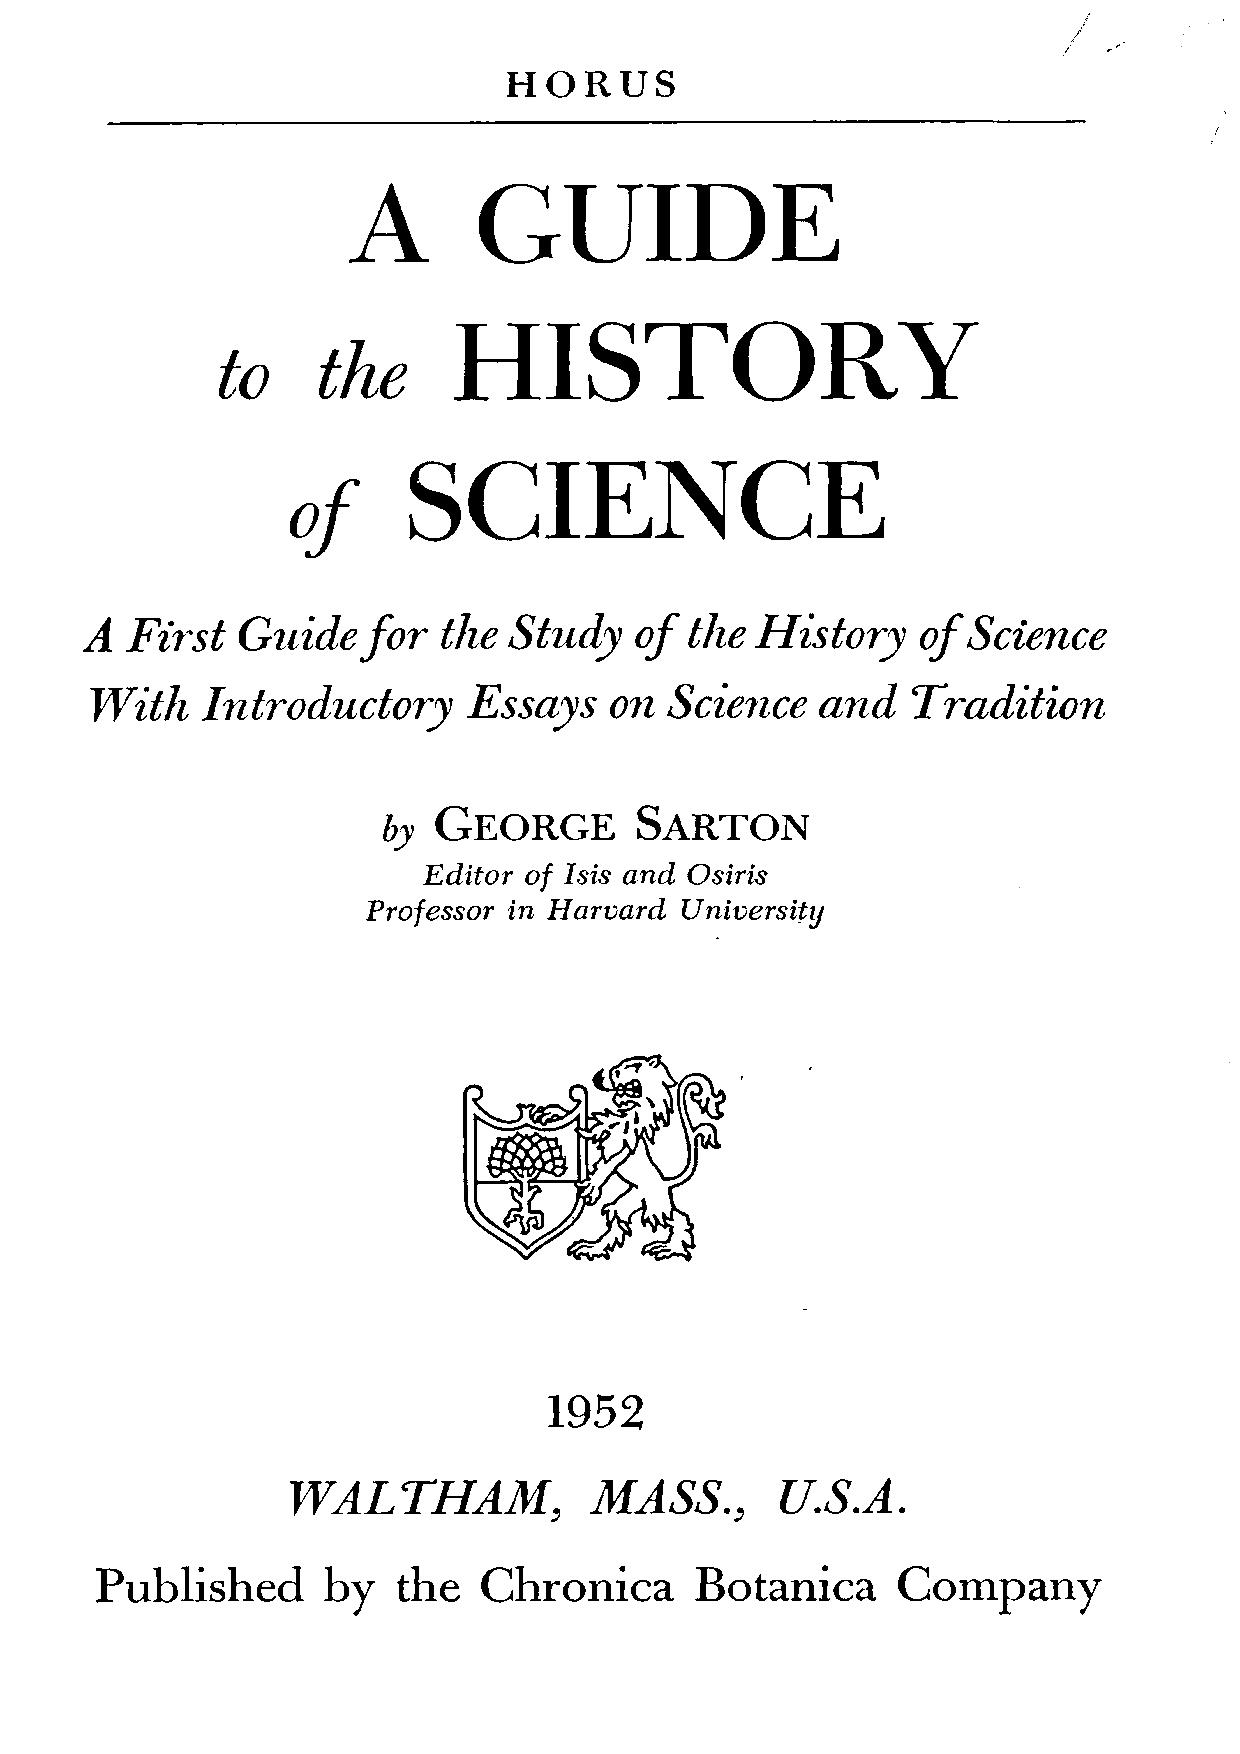author: (376, 803, 811, 854)
title: (211, 180, 982, 562)
